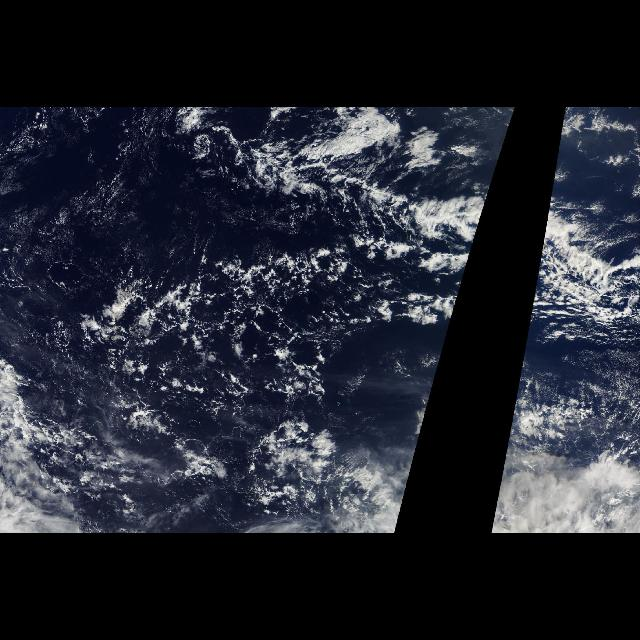Fish: (246, 143, 504, 341), (15, 126, 217, 270), (524, 143, 636, 341)
Gravel: (42, 240, 424, 414)
